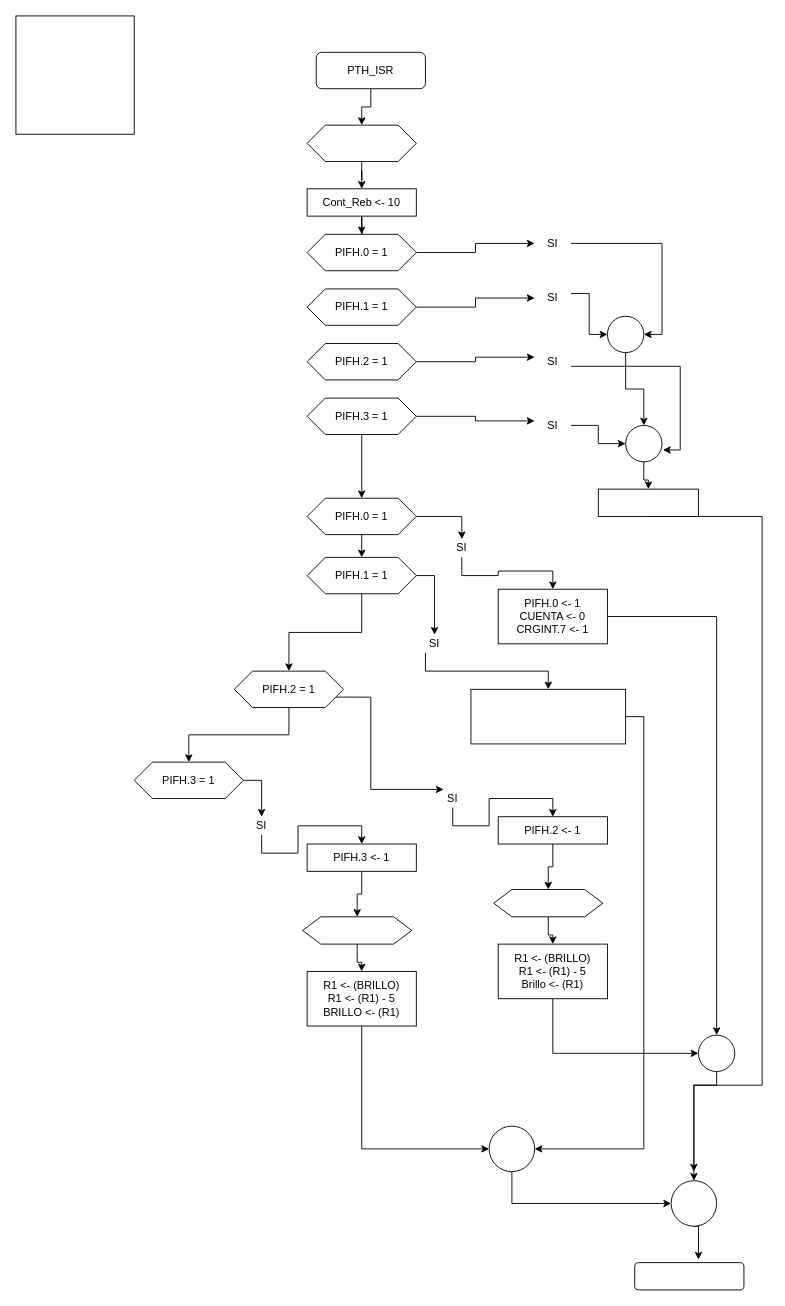
Some shapes in this 785 by 1306 pixel diagram are drawn without their labels. Here are the shapes that lost their labels. From the top down, the centre of each, then its label:
At point (74, 74): "C - carry K. - Y J - X R1 - A R2 - B RR1 - D".
At point (361, 143): "Cont_Reb = 0".
At point (647, 502): "PIFH.X <- 1".
At point (548, 716): "PIFH.1 <- 1 AcmPQ <- 0".
At point (548, 903): "BRILLO = 0".
At point (357, 930): "BRILLO = 100".
At point (689, 1276): "RETURN".
